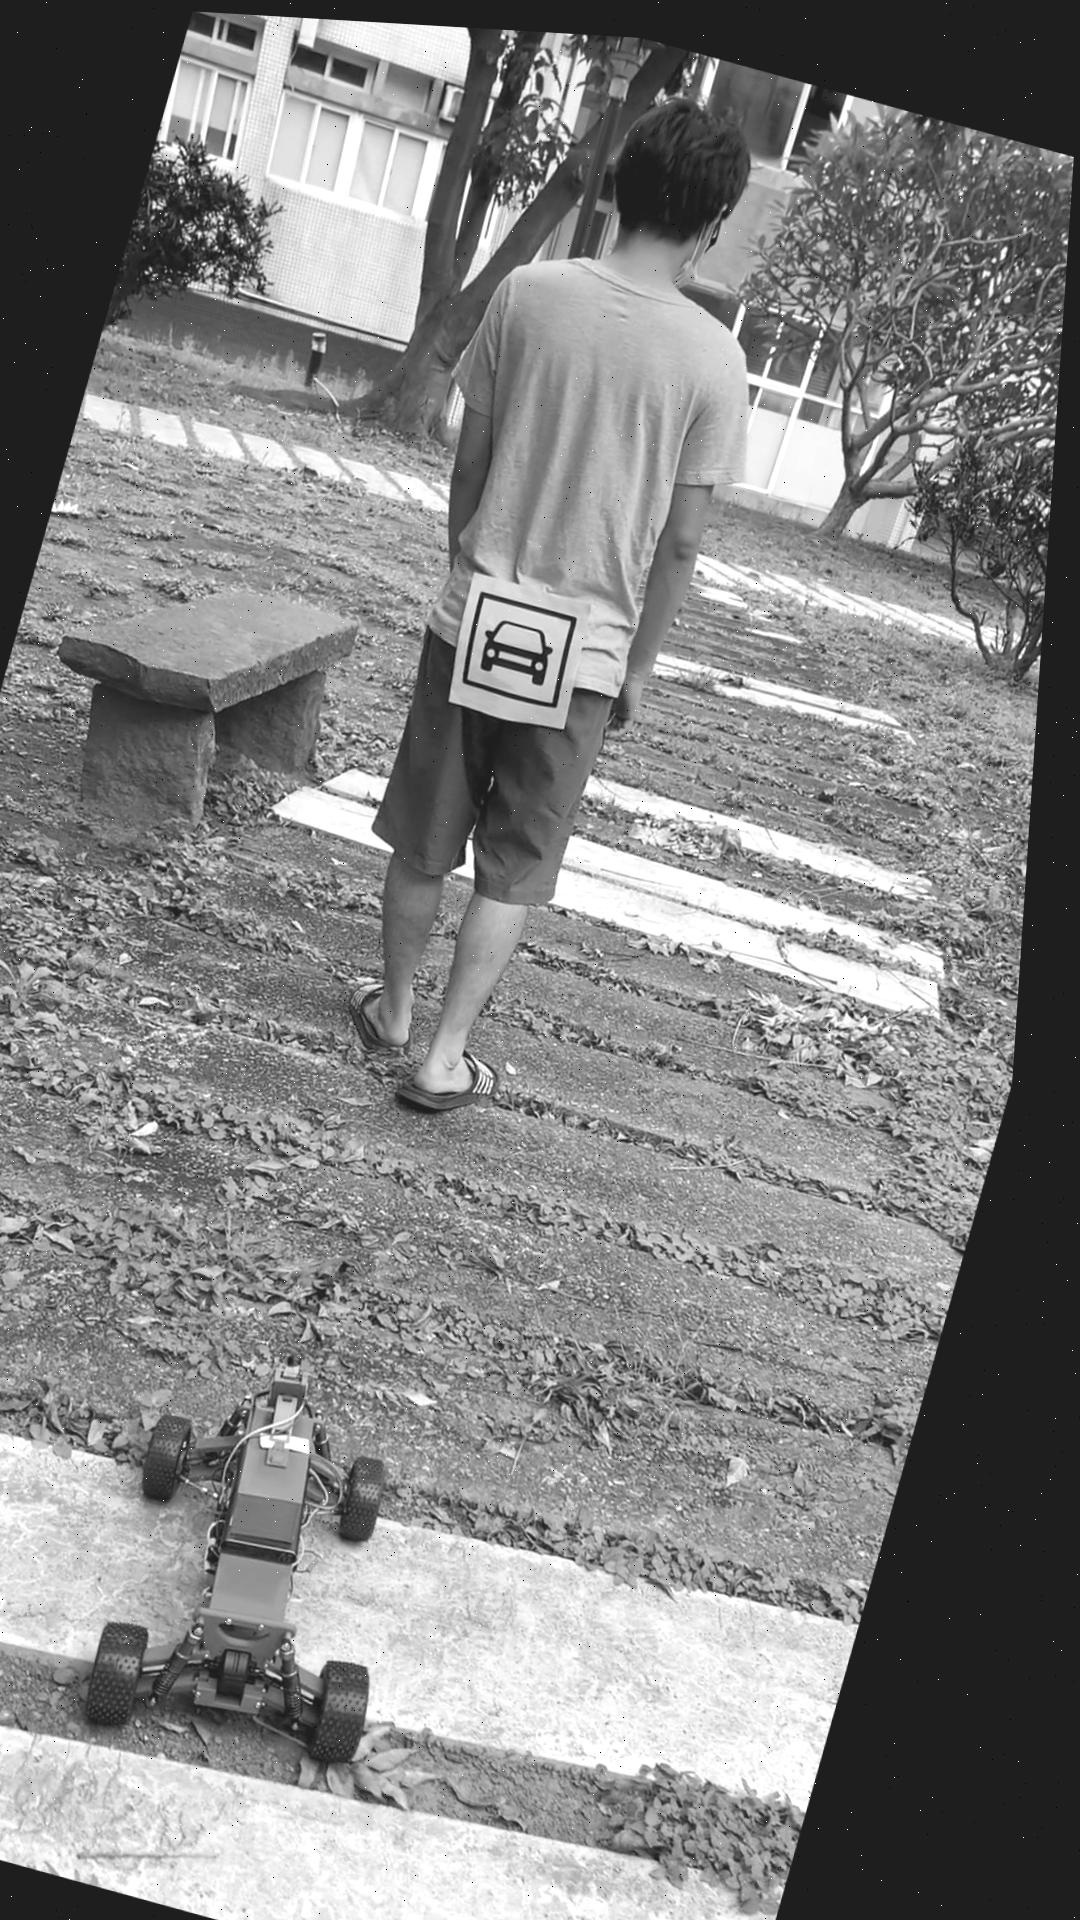car_img: (462, 583, 591, 704)
